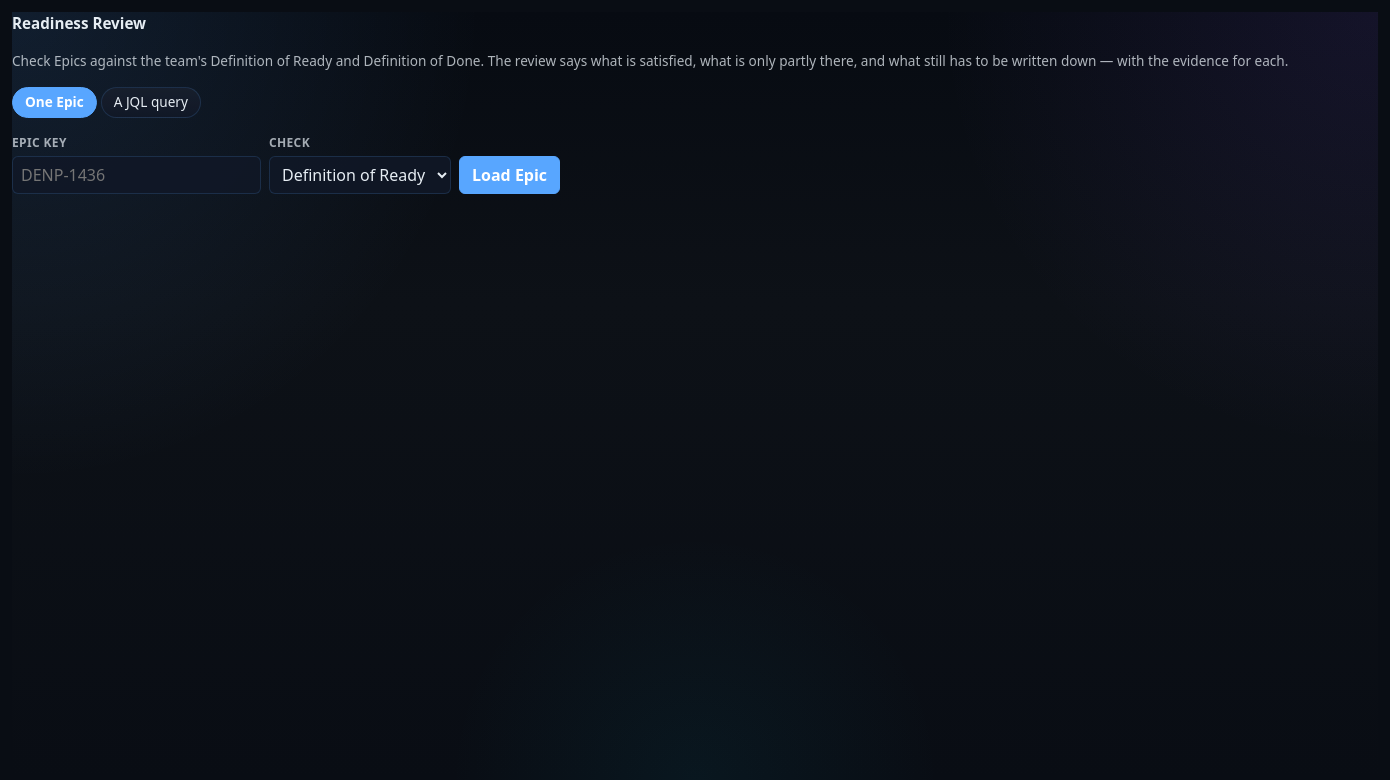
EpicChecklistTab › still validates when the checklist cannot be read, and says which criteria it used
Type "denp-1436" into the field labelled "Epic key" at (136, 175), box [12,156,261,194]
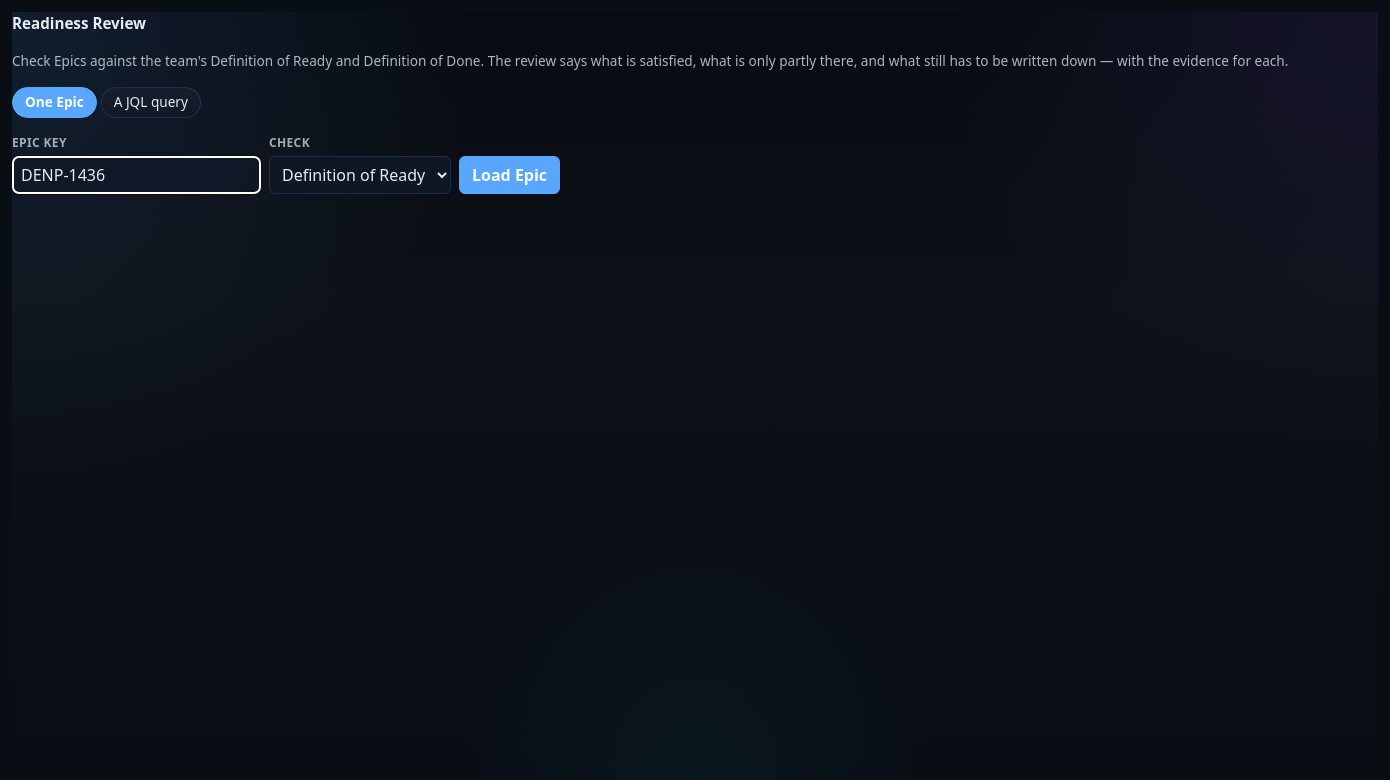
Click the button "Load Epic" at (510, 175), box [459,156,560,194]
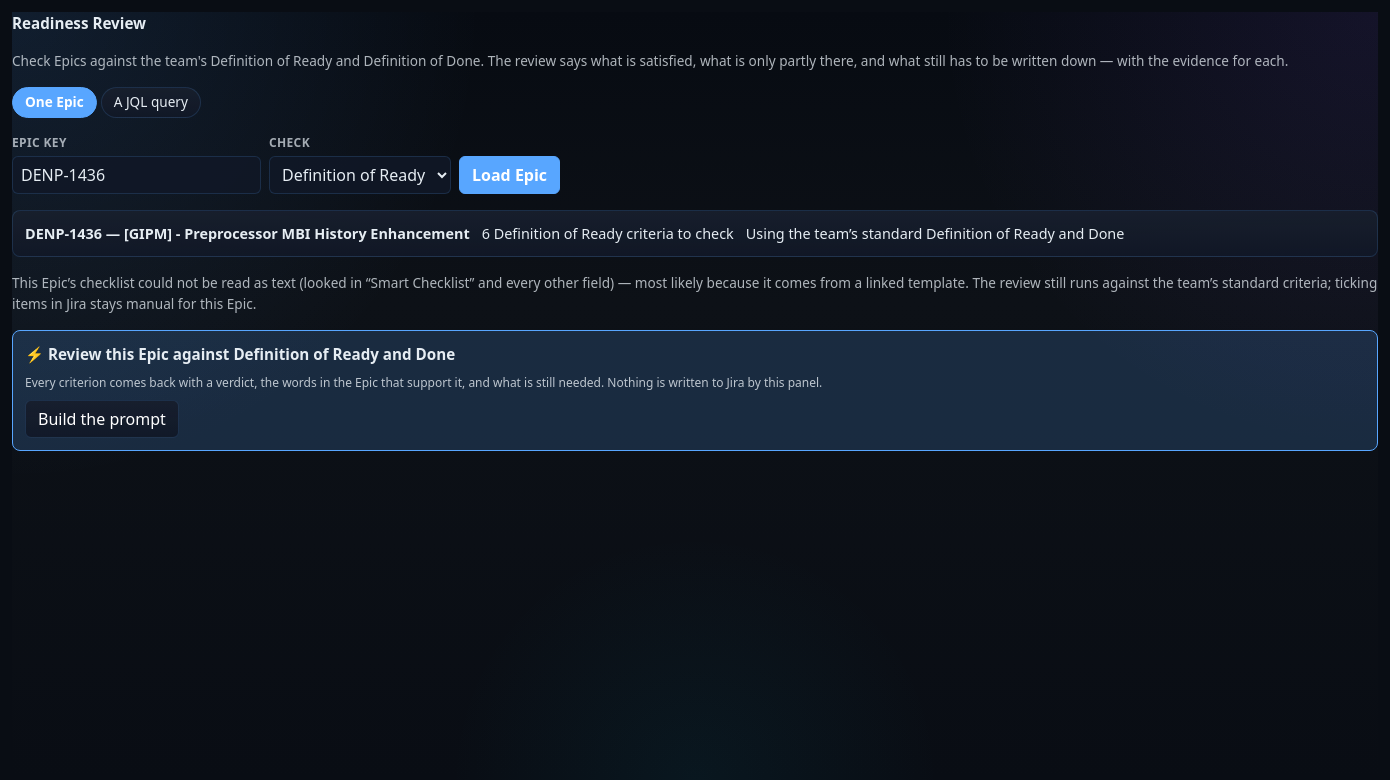
Result: the text "DENP-1436 — [GIPM] - Preprocessor MBI History Enhancement" is shown at [25,223,470,244]
Result: the text "Using the team’s standard Definition of Ready and Done" is shown at [746,223,1124,244]
Result: the text "comes from a linked template" is shown at [614,273,1222,292]
